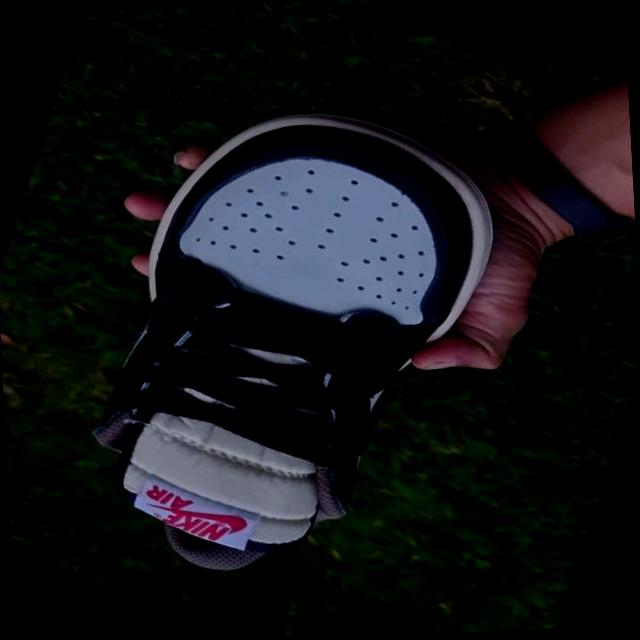nike_fake_jordan: (26, 46, 551, 640)
